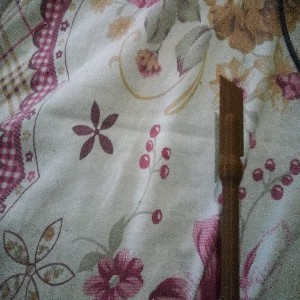cutter: (217, 73, 245, 300)
